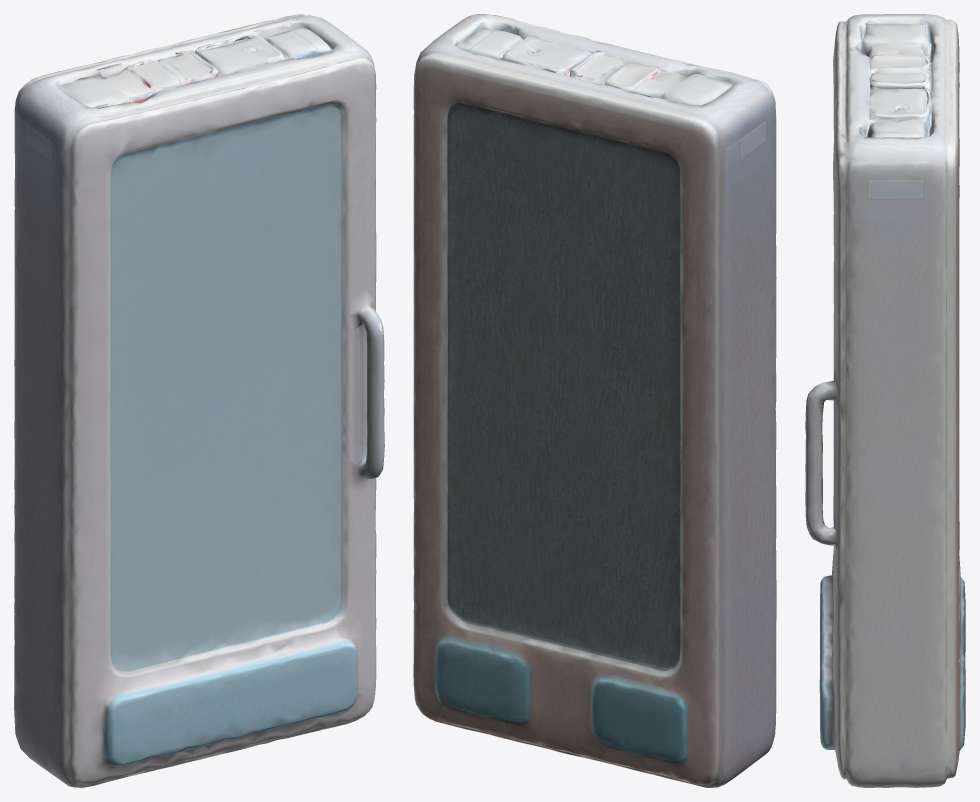
The model's file is P_ShopDoorMedium_h220.fbx.
3 renders of one model, left to right at view 1: azimuth 30°, elevation 25°; view 2: azimuth 150°, elevation 25°; view 3: azimuth 270°, elevation 25°, orthographic. The views are drawn at different scales.
Visible parts, largest first — view 1: texture_mapping; view 2: texture_mapping; view 3: texture_mapping.
Boxes of the visible parts, box(x1,y1,x2,y2) form: texture_mapping: box(14, 14, 384, 787); texture_mapping: box(413, 14, 776, 787); texture_mapping: box(805, 14, 965, 787).
Bounding box in the file's own units: 0.4861 × 0.225 × 0.9996.
Materials: 1 (1 with a texture image).
